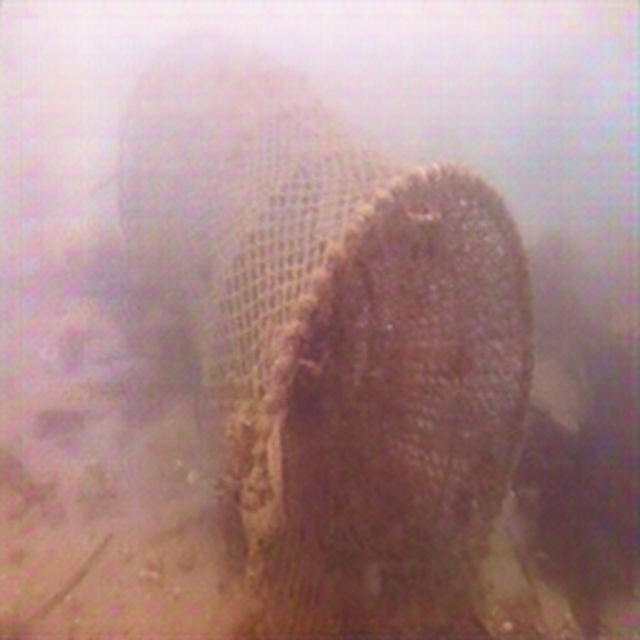mine: (114, 22, 535, 640)
